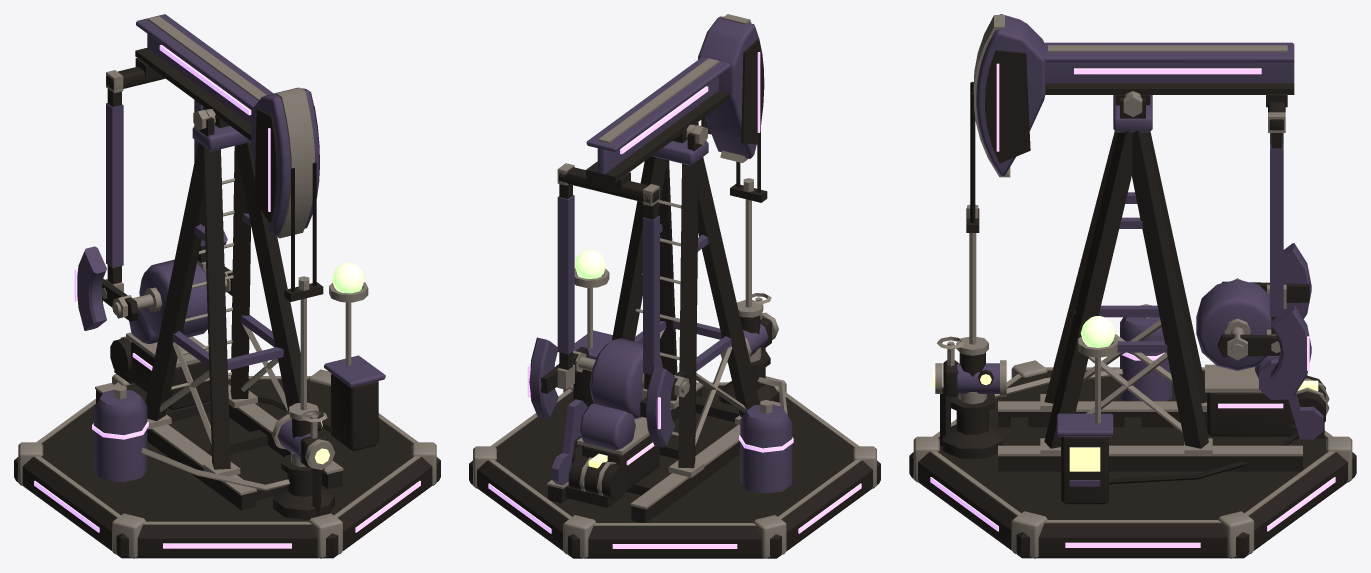
Rendered from fac_pump.glb.
The picture shows the model from 3 angles, left to right: view 1: azimuth 30°, elevation 25°; view 2: azimuth 150°, elevation 25°; view 3: azimuth 270°, elevation 25°; orthographic projection. The views are drawn at different scales.
Visible parts, largest first — view 1: base, arm, pitman, crank, lamp; view 2: base, arm, pitman, crank, lamp; view 3: base, arm, crank, pitman, lamp.
Part boxes in pixels (x1=…): base: x1=14, y1=109, x2=440, y2=558; arm: x1=135, y1=14, x2=319, y2=238; pitman: x1=105, y1=66, x2=206, y2=292; crank: x1=74, y1=230, x2=232, y2=330; lamp: x1=329, y1=263, x2=368, y2=302; base: x1=469, y1=125, x2=880, y2=558; arm: x1=586, y1=14, x2=764, y2=190; pitman: x1=557, y1=163, x2=659, y2=399; crank: x1=527, y1=337, x2=688, y2=447; lamp: x1=574, y1=249, x2=609, y2=287; base: x1=909, y1=81, x2=1356, y2=558; arm: x1=973, y1=14, x2=1294, y2=177; crank: x1=1218, y1=243, x2=1311, y2=395; pitman: x1=1267, y1=102, x2=1286, y2=335; lamp: x1=1078, y1=316, x2=1117, y2=357.
Bounding box in the file's own units: 1.8 × 2.31 × 2.05.
